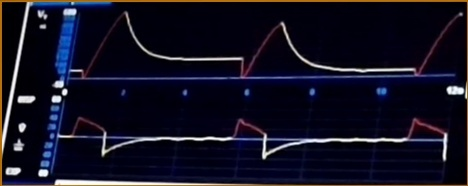Flow: (63, 109, 449, 177)
Leakage Volume: (75, 10, 463, 84)
